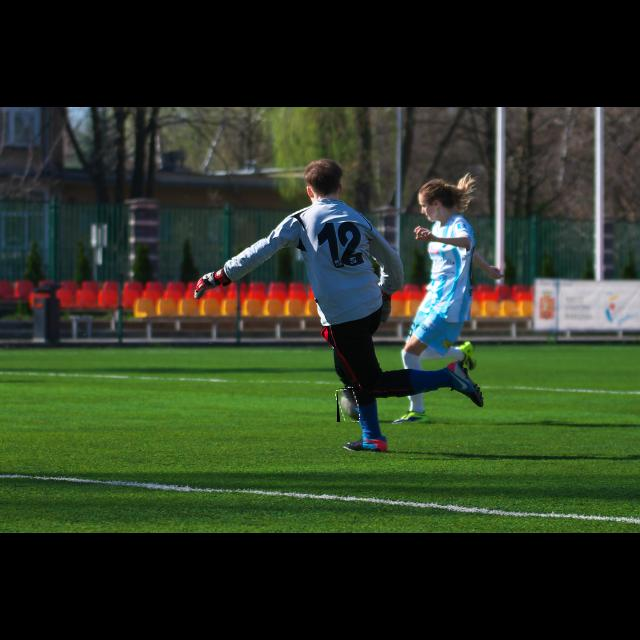Football: (337, 388, 359, 422)
